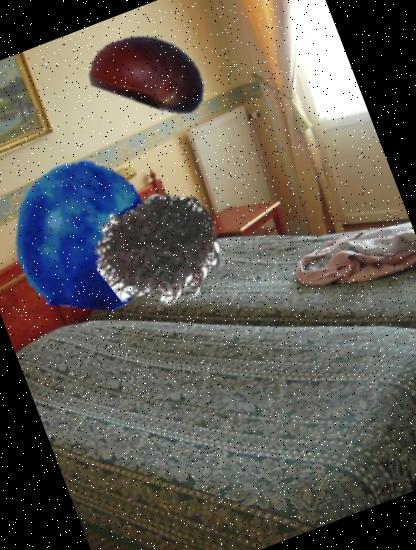Chestnut: (72, 0, 227, 148)
Huckleberry: (0, 139, 184, 330)
Rambutan: (80, 171, 239, 330)
